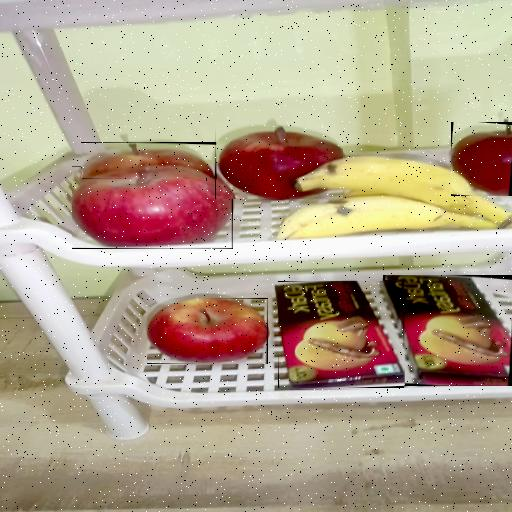Apple: (72, 166, 233, 249), (214, 125, 342, 199), (147, 298, 268, 364), (80, 142, 214, 179), (451, 122, 512, 196)
Choco Fills: (383, 275, 512, 386), (278, 282, 404, 390)
